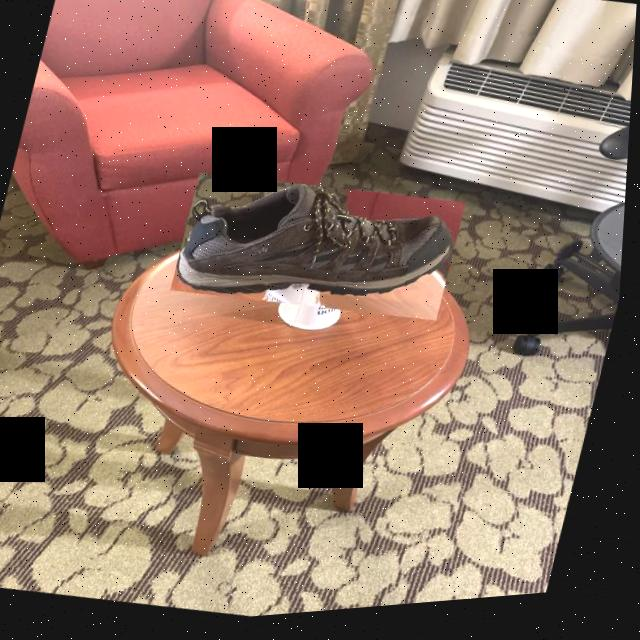shoe: (172, 159, 471, 346)
